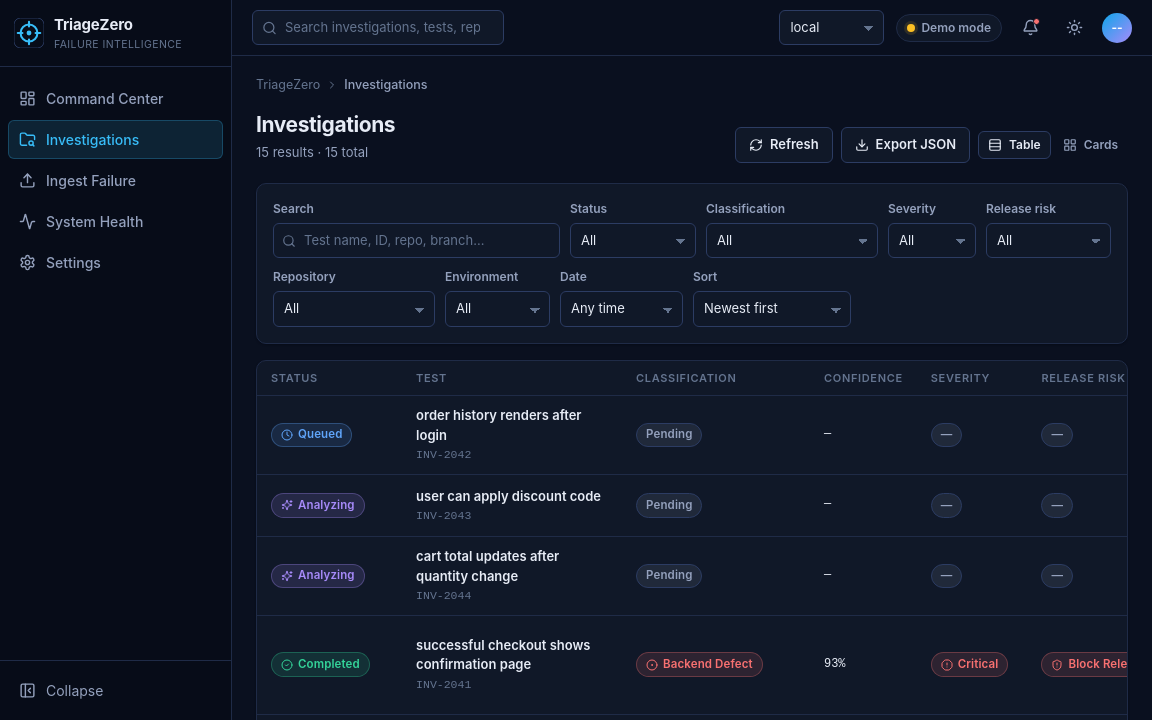
Test: Investigations page filters › filters by search text
Type "wishlist" into the search field labelled "Search". click: x=416, y=241
box: [273,223,560,258]
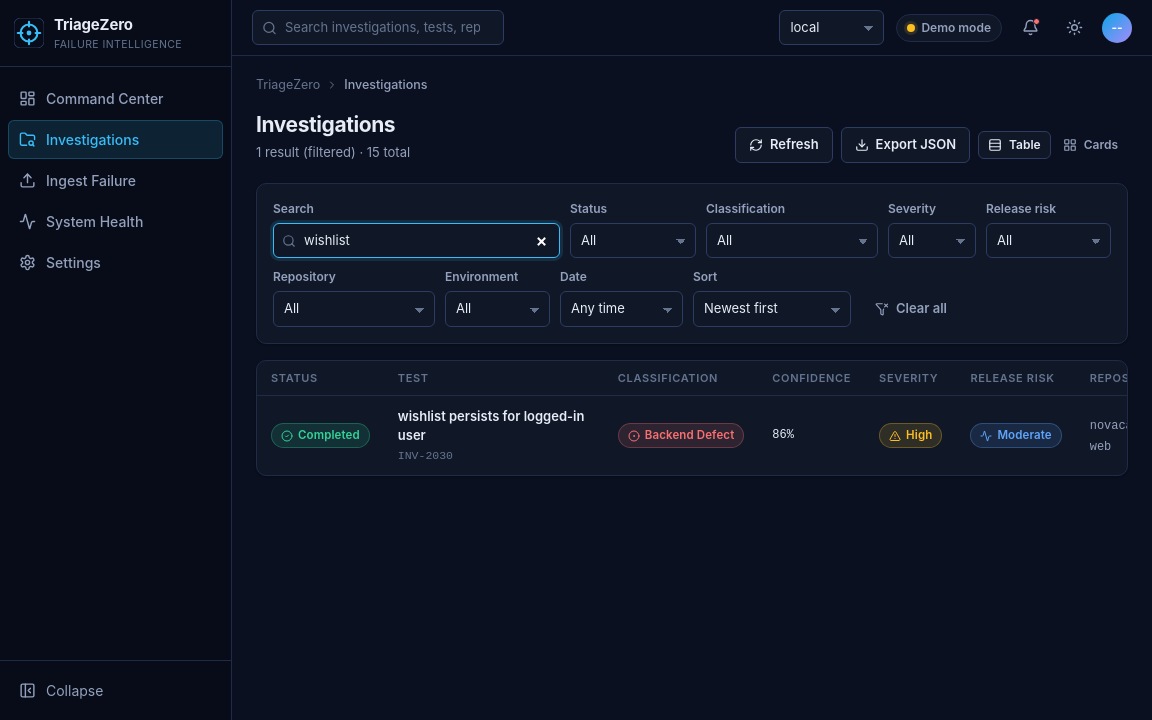
Result: the text "1 result (filtered) · 15 total" is shown at [256,143,410,163]
Result: the text "wishlist persists for logged-in user" is shown at [398,407,590,446]
